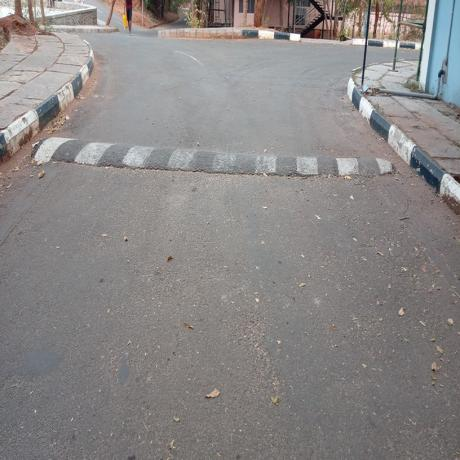Speed Bump: (30, 133, 396, 180)
